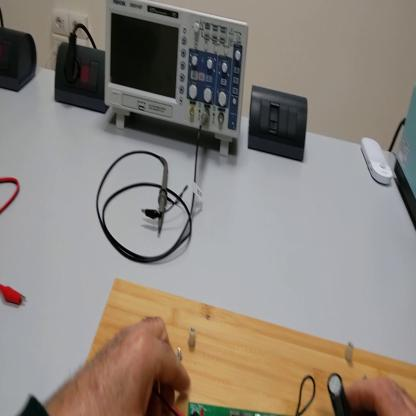hand: (46, 315, 191, 416), (341, 379, 416, 415)
high voltage board: (155, 369, 350, 416)
oscilloscope: (106, 2, 251, 159)
socket: (55, 45, 108, 115), (1, 24, 41, 96)
welder station: (395, 82, 416, 229)
working area: (88, 278, 415, 413)
